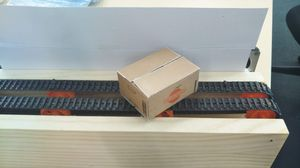box1: (116, 45, 200, 120)
